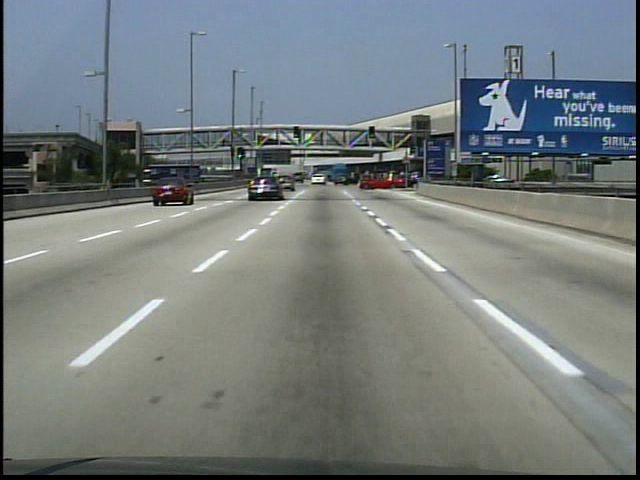person: (221, 138, 226, 149)
